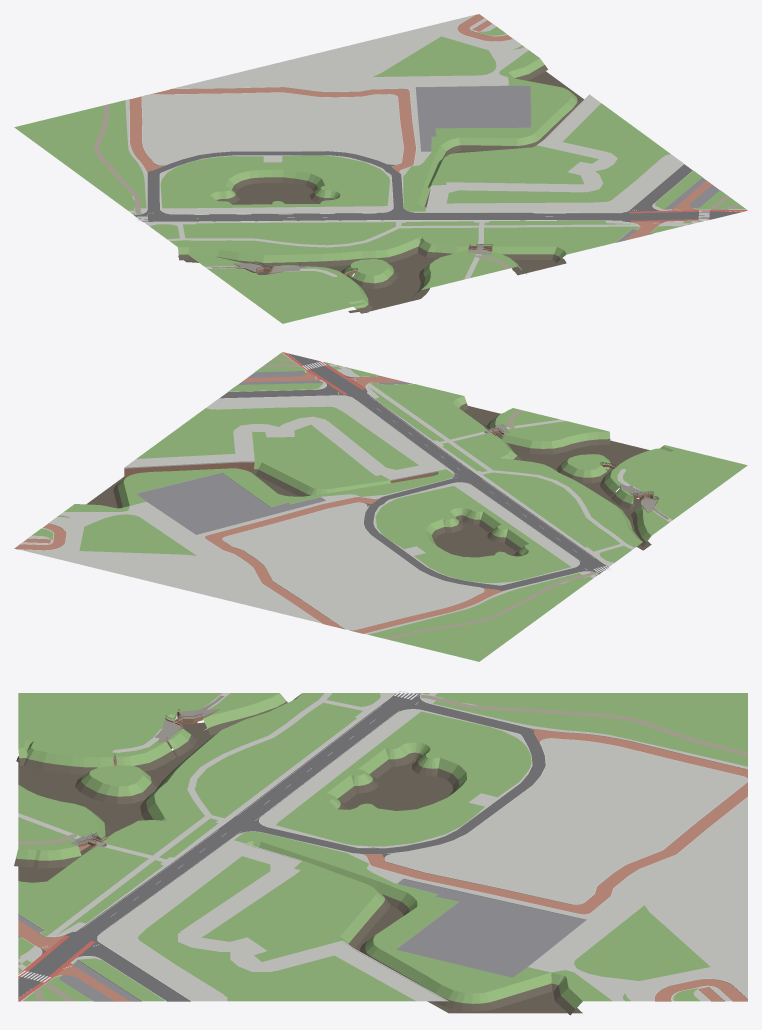
The model's file is ground_4_12.glb.
The picture shows the model from 3 angles, top to bottom: view 1: azimuth 30°, elevation 25°; view 2: azimuth 150°, elevation 25°; view 3: azimuth 270°, elevation 25°; orthographic projection. The views are drawn at different scales.
Visible parts, largest first — view 1: ground_4_12; view 2: ground_4_12; view 3: ground_4_12.
Part boxes in pixels (x1,y1,x2,y2): ground_4_12: (14, 14, 747, 323); ground_4_12: (14, 352, 747, 661); ground_4_12: (14, 690, 747, 1015).
Bounding box in the file's own units: 203 × 5.2 × 201.
